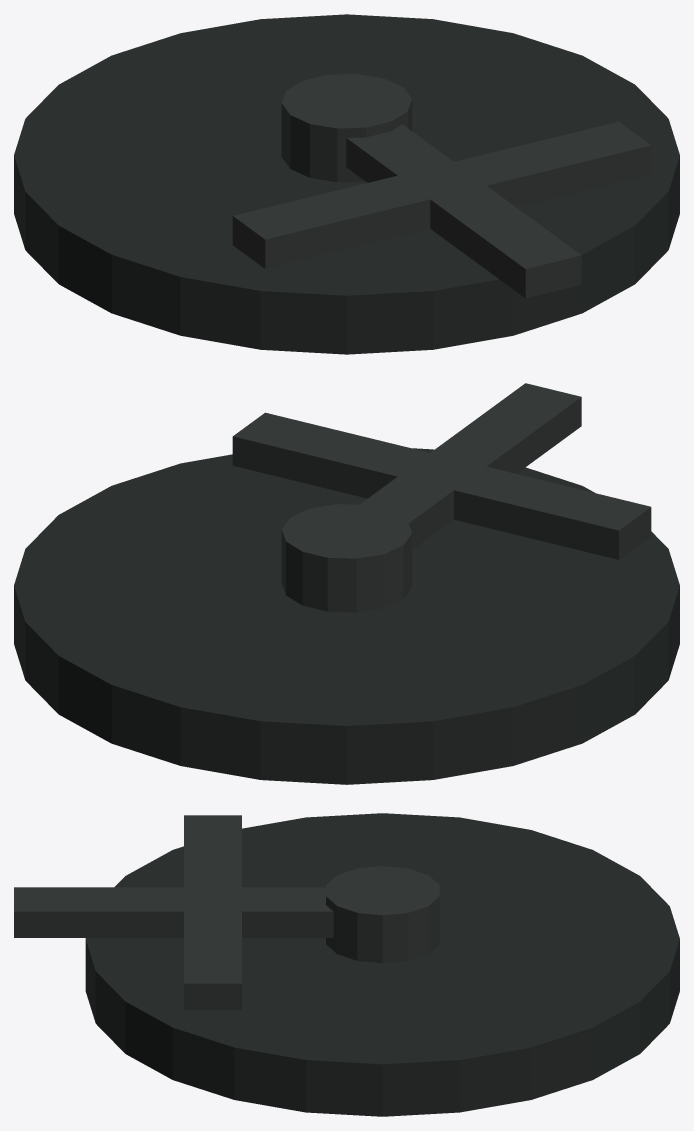
Rendered from Bastion_WarFactoryCMV2_RoofFan.obj.
The picture shows the model from 3 angles, top to bottom: view 1: azimuth 30°, elevation 25°; view 2: azimuth 150°, elevation 25°; view 3: azimuth 270°, elevation 25°; orthographic projection. The views are drawn at different scales.
Parts seen in each view (by area): view 1: fan_ring_0, fan_blade_3, fan_blade_2, fan_hub_1, fan_blade_5, fan_blade_4; view 2: fan_ring_0, fan_blade_3, fan_blade_2, fan_hub_1, fan_blade_5, fan_blade_4; view 3: fan_ring_0, fan_blade_2, fan_blade_3, fan_hub_1, fan_blade_5, fan_blade_4.
Part boxes in pixels (x1,y1,x2,y2): fan_ring_0: (14,14,679,354); fan_blade_3: (232,121,651,268); fan_blade_2: (346,124,581,298); fan_hub_1: (281,74,412,182); fan_blade_5: (232,123,651,268); fan_blade_4: (346,128,581,297); fan_ring_0: (14,448,679,784); fan_blade_3: (232,412,651,559); fan_blade_2: (360,383,581,549); fan_hub_1: (281,504,412,612); fan_blade_5: (232,413,651,559); fan_blade_4: (360,385,581,549); fan_ring_0: (85,813,679,1116); fan_blade_2: (14,887,333,937); fan_blade_3: (184,815,241,1009); fan_hub_1: (326,866,439,963); fan_blade_5: (184,815,241,1009); fan_blade_4: (14,887,333,937).
Bounding box in the file's own units: 1.23 × 0.23 × 1.38.
2 materials, 2 textured.
